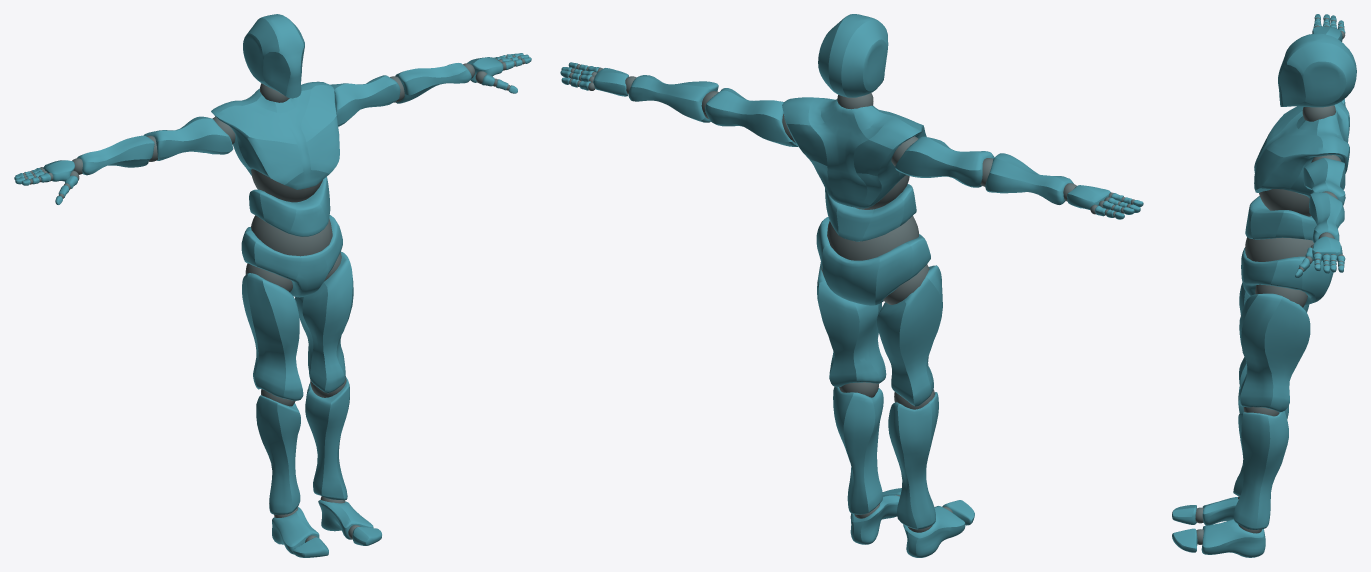
The model's file is mathboy.fbx.
The picture shows the model from 3 angles, left to right: view 1: azimuth 30°, elevation 25°; view 2: azimuth 150°, elevation 25°; view 3: azimuth 270°, elevation 25°; orthographic projection. The views are drawn at different scales.
Parts seen in each view (by area): view 1: Torso, RightLeg, Hips, LeftLeg, Head, RightLowerLeg, LeftLowerLeg, RightArm, LeftArm, RightForearm, RightFoot, LeftFoot (+3 smaller); view 2: Torso, Hips, RightLeg, Head, LeftLowerLeg, LeftLeg, RightLowerLeg, RightArm, LeftArm, RightForearm, LeftForearm, RightFoot (+3 smaller); view 3: Torso, LeftLeg, Head, LeftLowerLeg, Hips, LeftFoot, LeftArm, LeftForearm, LeftHand, RightFoot, RightHand, RightLeg (+1 smaller).
Boxes of the visible parts, x1=… form: Torso: x1=211, y1=81, x2=339, y2=236; RightLeg: x1=242, y1=263, x2=303, y2=400; Hips: x1=241, y1=215, x2=342, y2=297; LeftLeg: x1=295, y1=251, x2=353, y2=393; Head: x1=243, y1=14, x2=304, y2=102; RightLowerLeg: x1=256, y1=389, x2=300, y2=514; LeftLowerLeg: x1=305, y1=376, x2=349, y2=500; RightArm: x1=143, y1=116, x2=235, y2=160; LeftArm: x1=330, y1=75, x2=400, y2=126; RightForearm: x1=77, y1=135, x2=157, y2=175; RightFoot: x1=272, y1=507, x2=328, y2=557; LeftFoot: x1=318, y1=496, x2=381, y2=545; Torso: x1=782, y1=97, x2=926, y2=241; Hips: x1=816, y1=216, x2=930, y2=305; RightLeg: x1=877, y1=264, x2=942, y2=406; Head: x1=818, y1=14, x2=888, y2=109; LeftLowerLeg: x1=833, y1=382, x2=883, y2=514; LeftLeg: x1=817, y1=262, x2=886, y2=387; RightLowerLeg: x1=888, y1=389, x2=938, y2=529; RightArm: x1=891, y1=136, x2=994, y2=187; LeftArm: x1=705, y1=88, x2=797, y2=146; RightForearm: x1=980, y1=153, x2=1073, y2=204; LeftForearm: x1=628, y1=75, x2=718, y2=122; RightFoot: x1=903, y1=500, x2=974, y2=557; Torso: x1=1245, y1=101, x2=1349, y2=240; LeftLeg: x1=1239, y1=284, x2=1310, y2=412; Head: x1=1278, y1=33, x2=1356, y2=121; LeftLowerLeg: x1=1233, y1=407, x2=1288, y2=529; Hips: x1=1241, y1=237, x2=1333, y2=305; LeftFoot: x1=1172, y1=519, x2=1265, y2=557; LeftArm: x1=1303, y1=155, x2=1345, y2=205; LeftForearm: x1=1309, y1=191, x2=1344, y2=243; LeftHand: x1=1295, y1=232, x2=1345, y2=277; RightFoot: x1=1172, y1=496, x2=1239, y2=525; RightHand: x1=1312, y1=14, x2=1345, y2=41; RightLeg: x1=1239, y1=282, x2=1309, y2=387.
Size of the model in its own units: 1138 by 1047 by 346.
